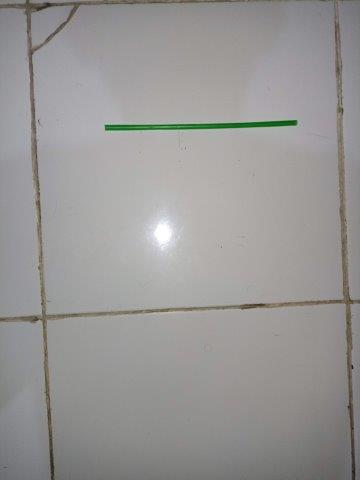sedotan: (105, 119, 297, 131)
